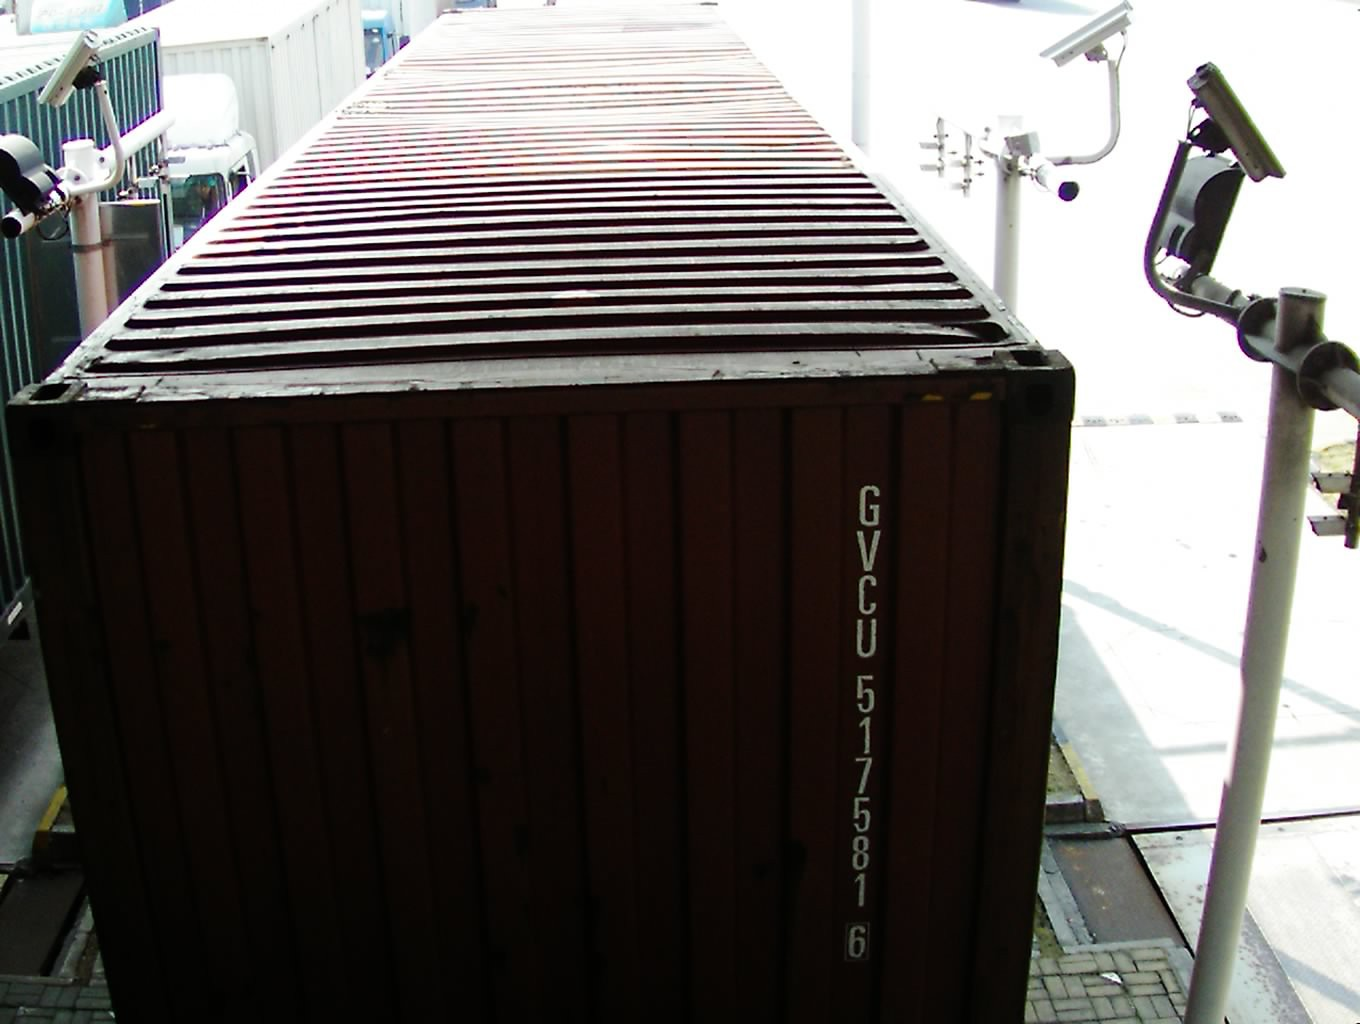words: (841, 474, 883, 964)
